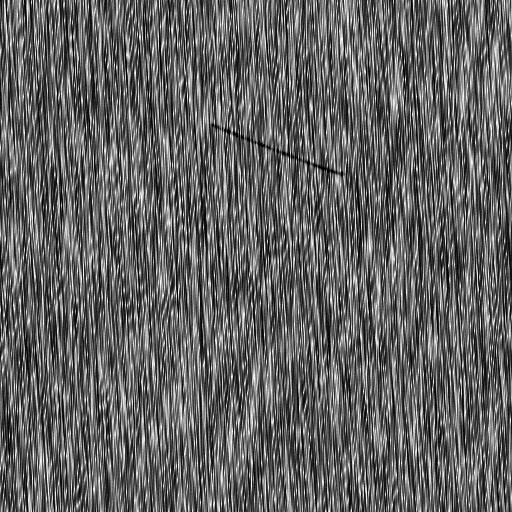DefectTypeC: (212, 120, 351, 176)
